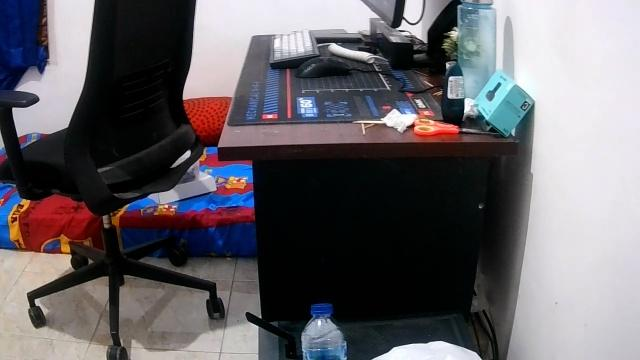Kursi: (0, 0, 226, 359)
Meja: (216, 32, 518, 189)
